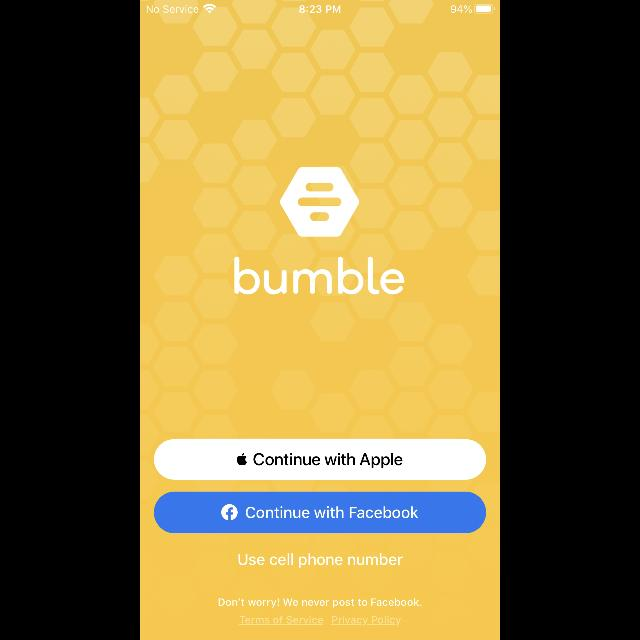backgroundimage: (140, 1, 500, 640)
image: (280, 168, 360, 236)
text: (234, 257, 404, 295), (219, 598, 421, 608), (239, 616, 401, 626)
textbutton: (154, 491, 486, 533), (154, 438, 486, 479), (239, 554, 403, 568)
uppertaskbar: (140, 0, 500, 14)
